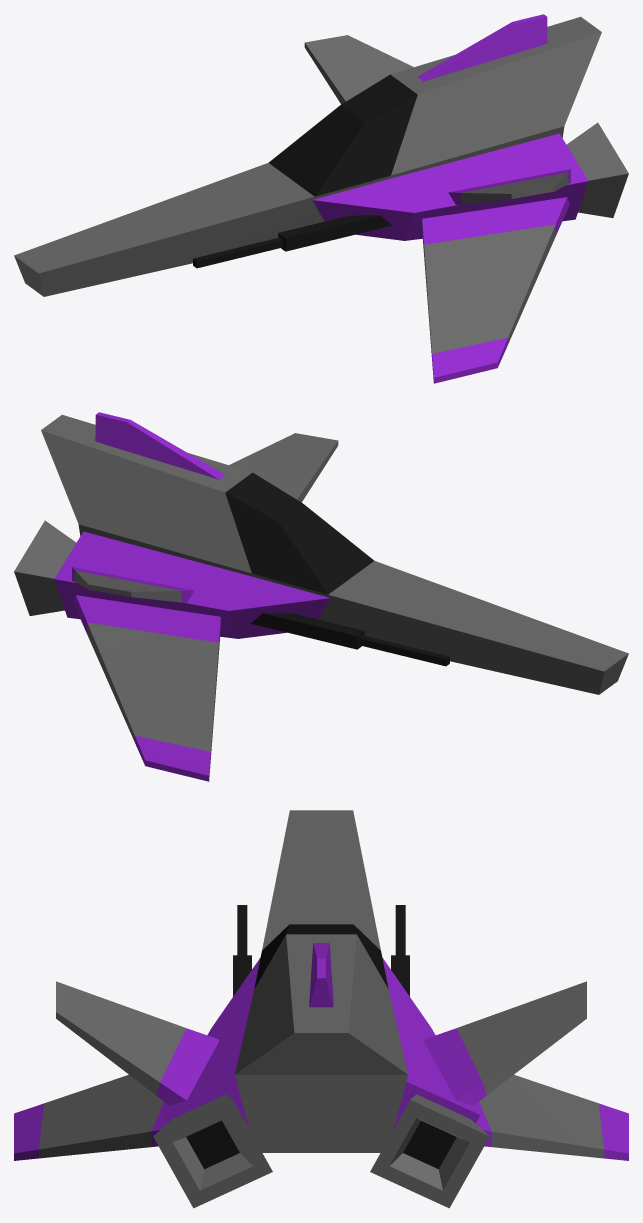
File: Equinox.FBX
3 renders of one model, top to bottom at view 1: azimuth 30°, elevation 25°; view 2: azimuth 150°, elevation 25°; view 3: azimuth 270°, elevation 25°, orthographic. The views are drawn at different scales.
Parts seen in each view (by area): view 1: 5; view 2: 5; view 3: 5.
Part boxes in pixels (bbox=[...]): 5: bbox=[14, 14, 628, 383]; 5: bbox=[14, 412, 628, 781]; 5: bbox=[14, 810, 628, 1208].
Bounding box in the file's own units: 95.06 × 36.02 × 69.83.
